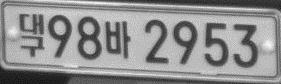2: (144, 18, 169, 63)
3: (232, 23, 258, 68)
5: (203, 22, 229, 67)
8: (76, 15, 103, 60)
9: (46, 13, 73, 58), (172, 20, 198, 64)
대구_V: (19, 13, 45, 57)
바: (105, 20, 131, 58)
